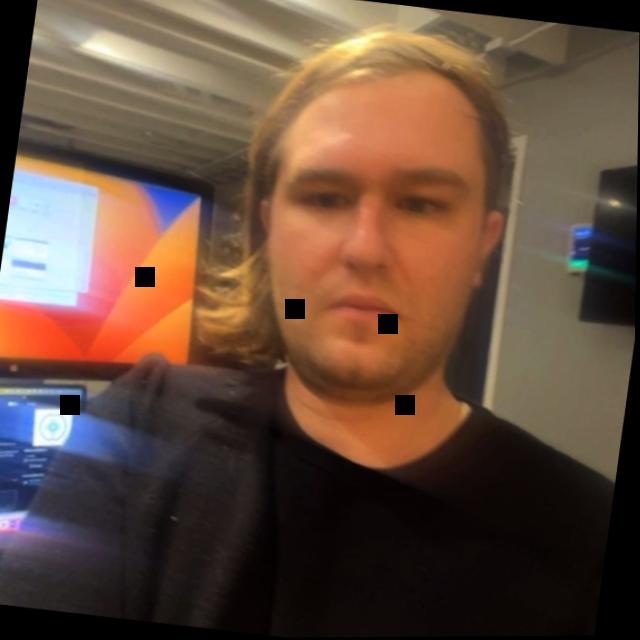NO-Mask: (206, 22, 556, 517)
